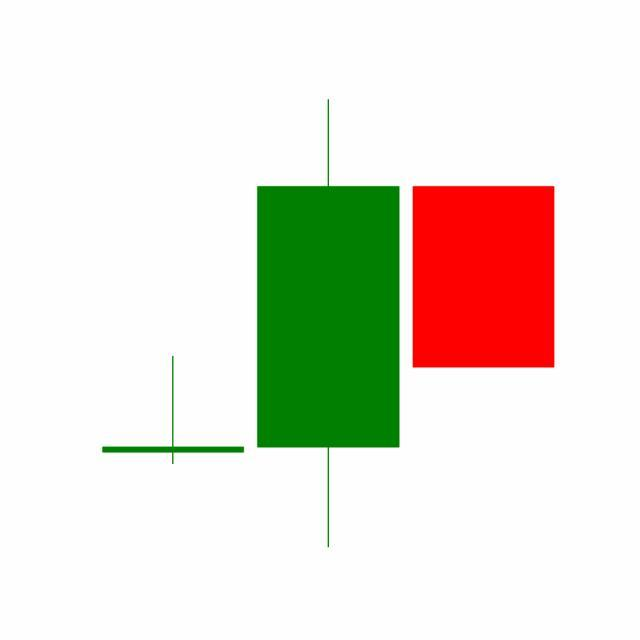Marubozu: (406, 185, 562, 370)
